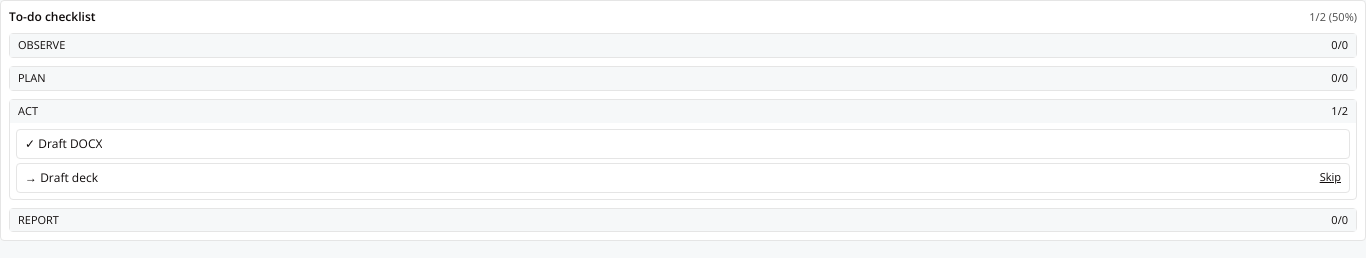
Test: TodoChecklist › collapses a phase when its header is toggled
Click the button "act 1/2": coordinates (28, 110) 10,100 -> 1356,122
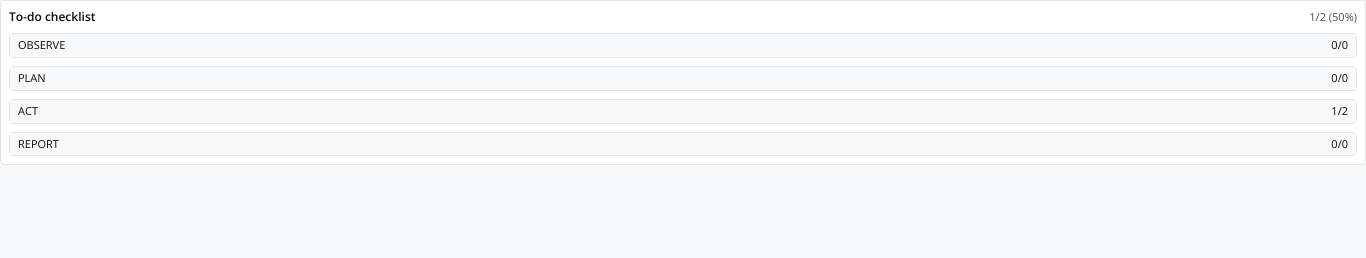
expect the text "Draft DOCX" is gone: met
